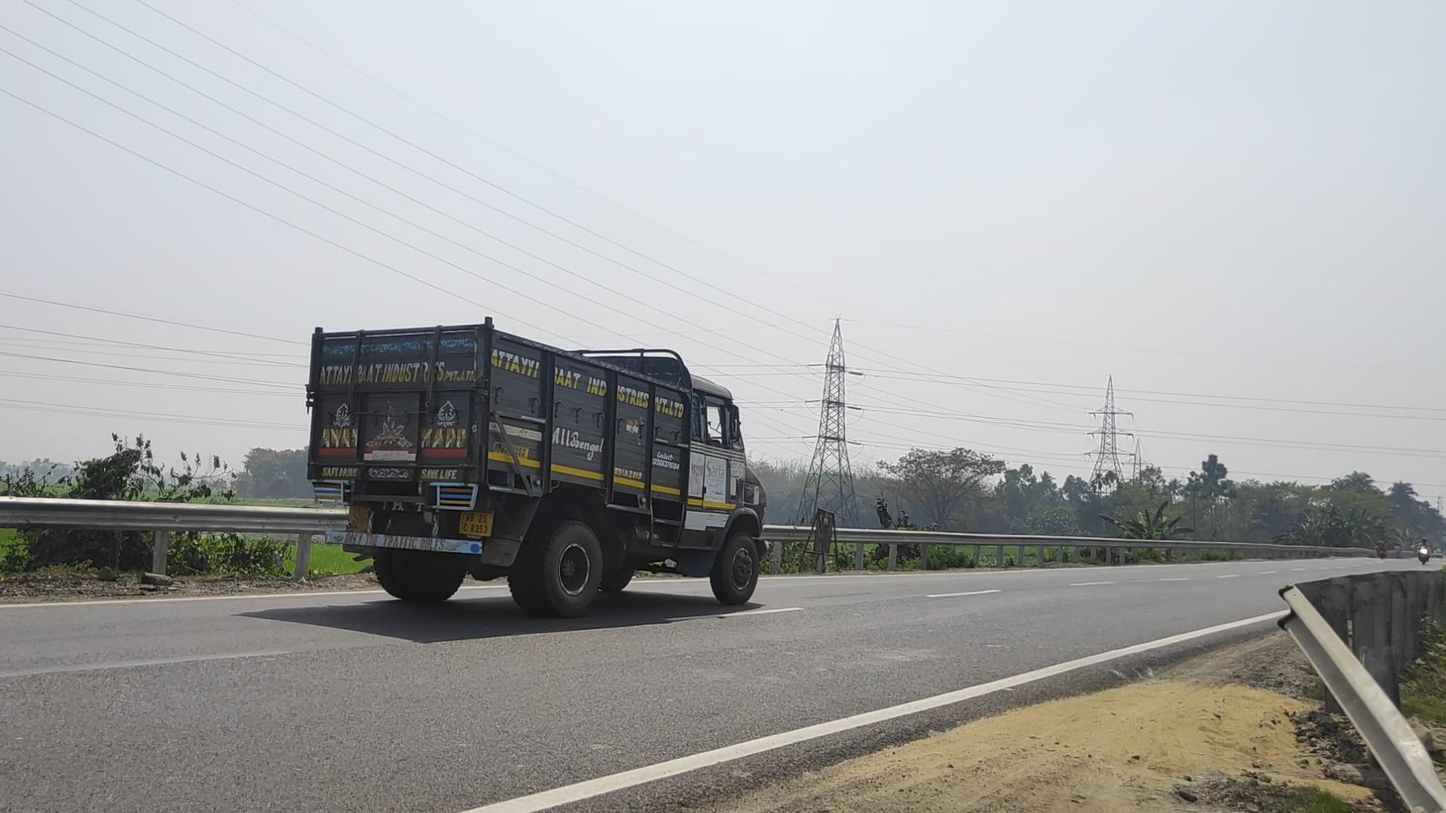truck: (306, 315, 772, 620)
